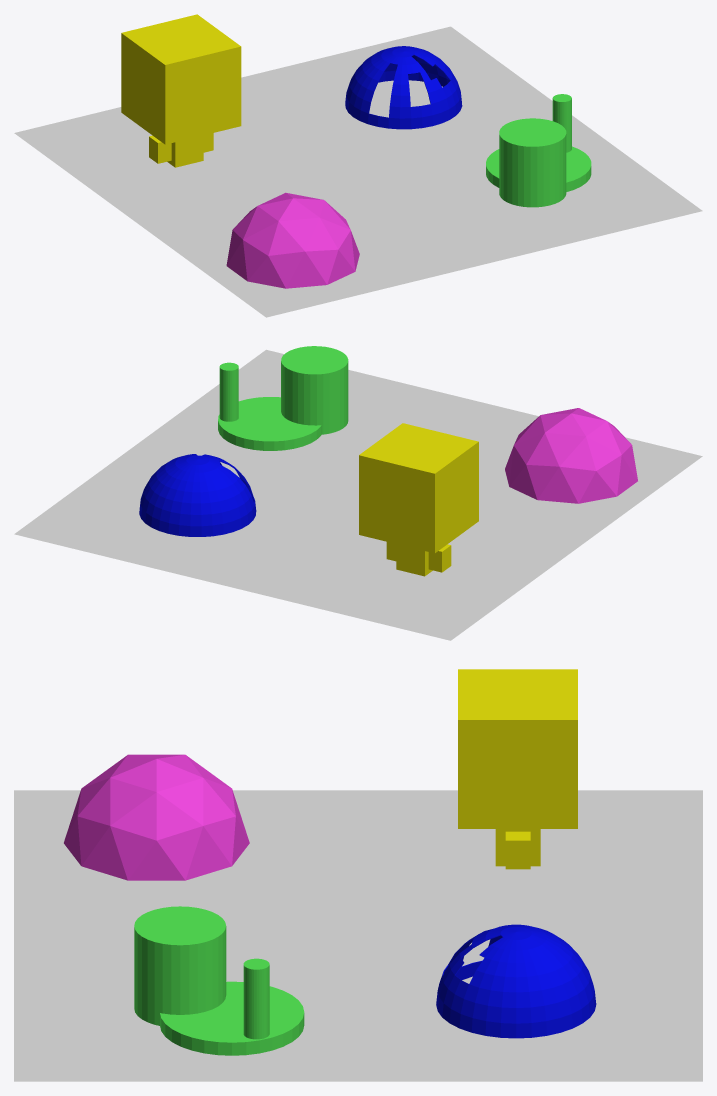
Rendered from MorphCityExp01.glb.
The picture shows the model from 3 angles, top to bottom: view 1: azimuth 30°, elevation 25°; view 2: azimuth 150°, elevation 25°; view 3: azimuth 270°, elevation 25°; orthographic projection. The views are drawn at different scales.
Visible parts, largest first — view 1: Plane, Cube, Icosphere, Cylinder.001, Sphere; view 2: Plane, Cube, Cylinder.001, Icosphere, Sphere; view 3: Plane, Cube, Icosphere, Cylinder.001, Sphere.
Part boxes in pixels (bbox=[...]): Plane: bbox=[14, 26, 702, 317]; Cube: bbox=[121, 14, 241, 167]; Icosphere: bbox=[226, 192, 359, 288]; Cylinder.001: bbox=[486, 94, 591, 207]; Sphere: bbox=[345, 46, 462, 129]; Plane: bbox=[14, 349, 702, 640]; Cube: bbox=[359, 423, 478, 576]; Cylinder.001: bbox=[218, 346, 348, 450]; Icosphere: bbox=[505, 408, 637, 503]; Sphere: bbox=[139, 454, 256, 536]; Plane: bbox=[14, 790, 702, 1081]; Cube: bbox=[458, 669, 577, 869]; Icosphere: bbox=[64, 754, 249, 880]; Cylinder.001: bbox=[134, 906, 304, 1055]; Sphere: bbox=[436, 924, 596, 1038].
Size of the model in its own units: 2 by 0.5283 by 2.
